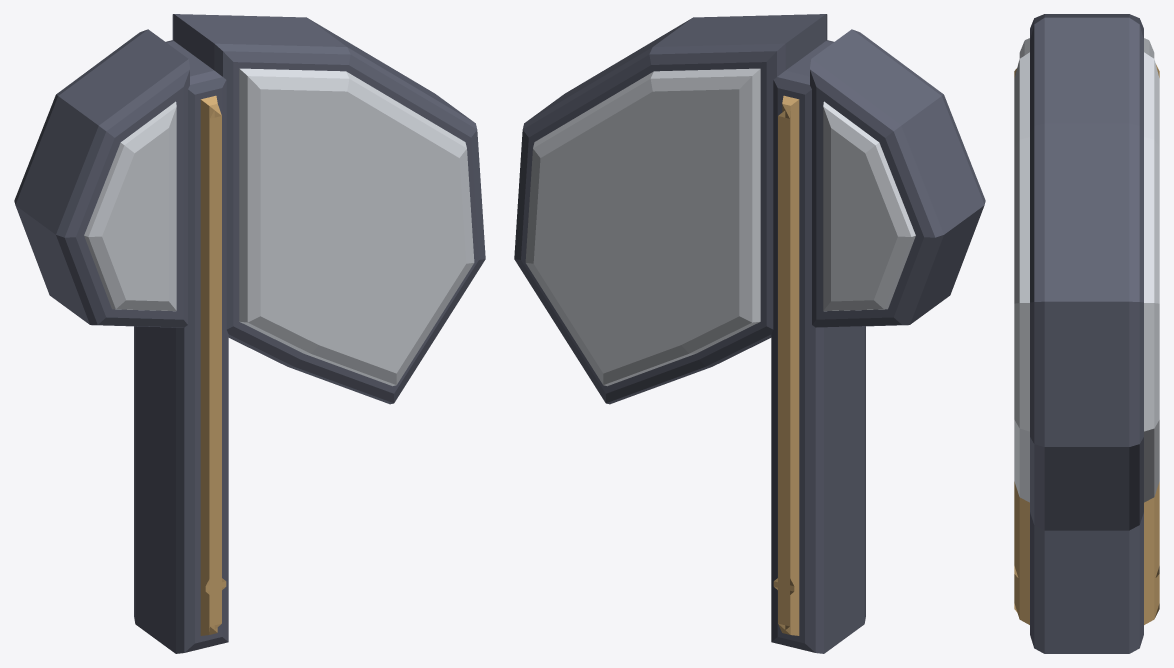
The model's file is axe-1.glb.
3 views of the same model, side by side, from view 1: azimuth 30°, elevation 25°; view 2: azimuth 150°, elevation 25°; view 3: azimuth 270°, elevation 25° (orthographic). The views are drawn at different scales.
Parts seen in each view (by area): view 1: axe-glyph; view 2: axe-glyph; view 3: axe-glyph.
Boxes of the visible parts, left/top/right/bottom form: axe-glyph: left=14, top=14, right=485, bottom=653; axe-glyph: left=514, top=14, right=985, bottom=653; axe-glyph: left=1014, top=14, right=1159, bottom=653.
Bounding box in the file's own units: 0.7015 × 0.94 × 0.1964.
